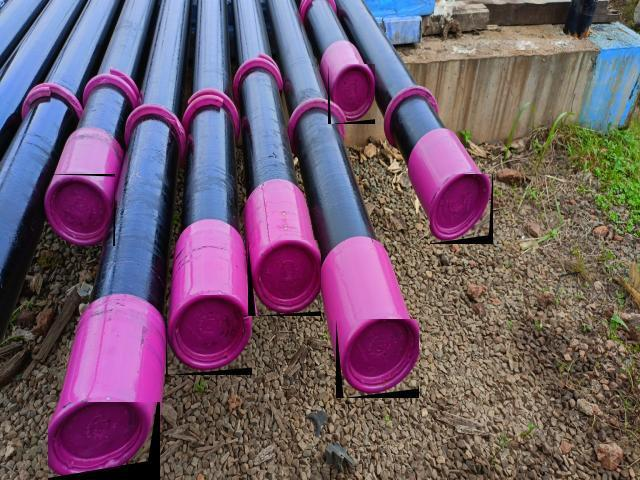pipe: (48, 402, 160, 480), (166, 295, 252, 375), (336, 319, 419, 398), (248, 240, 321, 316), (44, 174, 115, 246), (430, 174, 493, 244), (328, 64, 375, 124)
